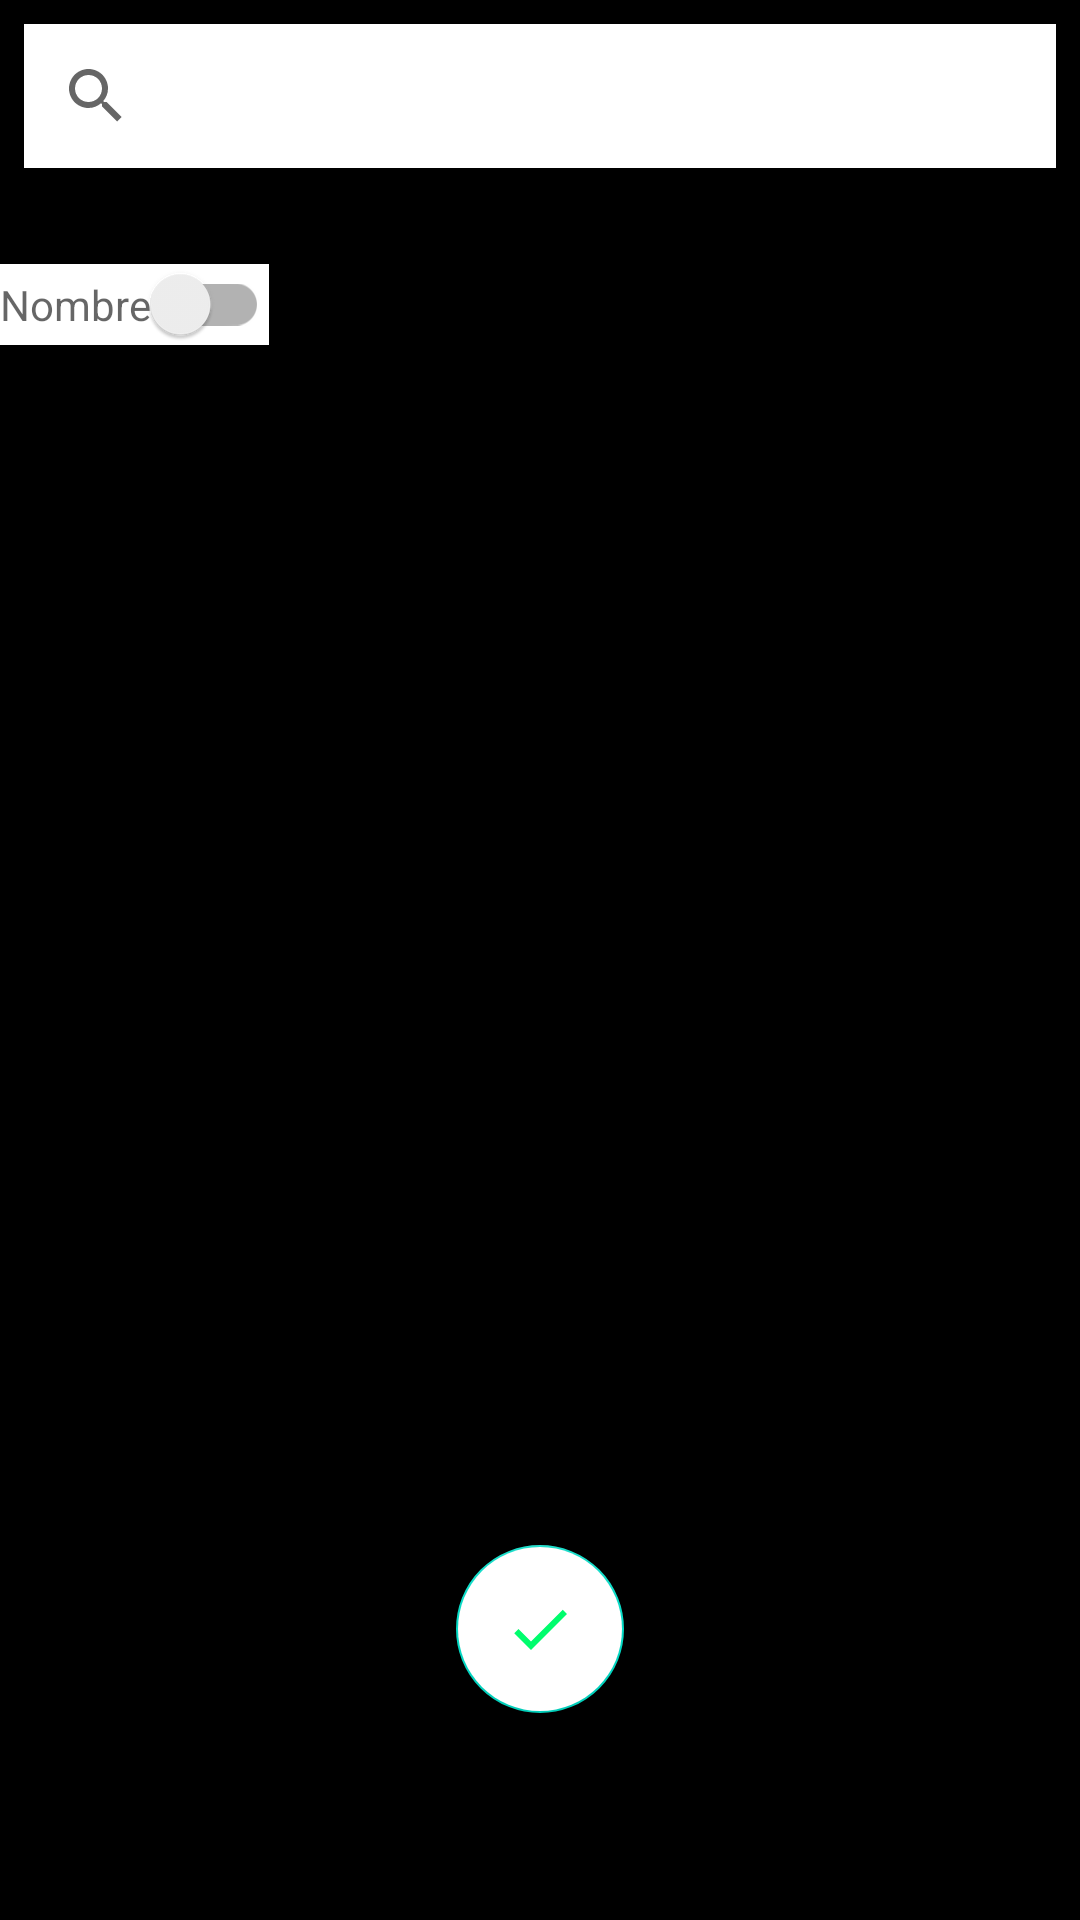

Named icons in this screenshot (1080*1920) and their bounding boxes, Rect(x1, y1, x2, y2):
aprove: Rect(456, 1545, 624, 1713)
